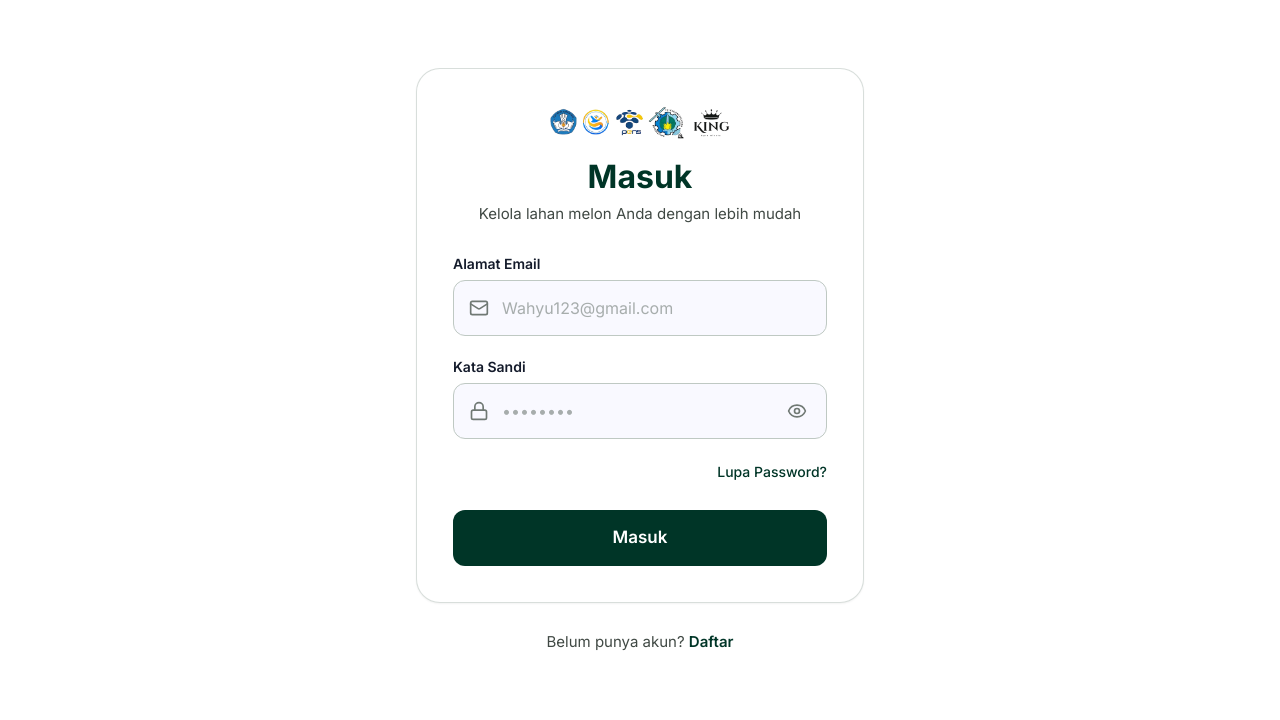
Test case: TASK-0218 Login View Single-Session Recovery UI Tests › 2. Clicking recovery button opens modal, requests challenge, and displays 6-digit OTP step with countdown
In the field labelled "Alamat Email": (640, 308) [453,280,827,336], type "user@example.com"
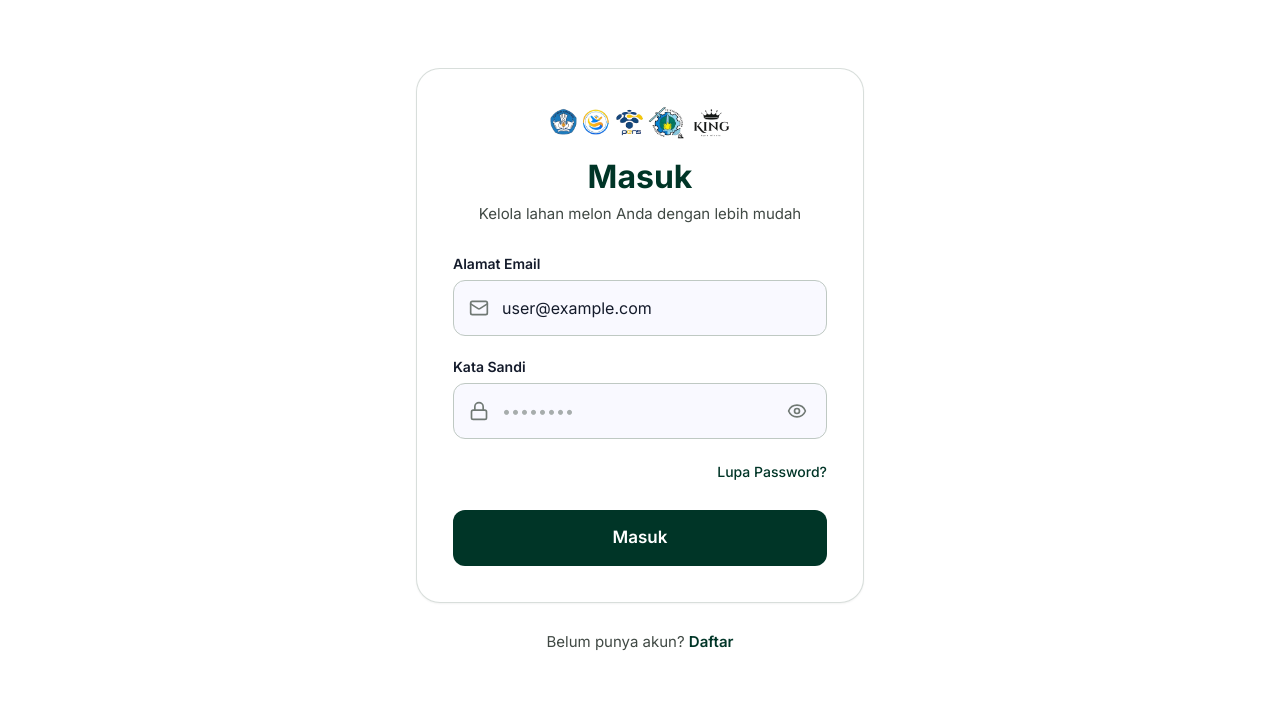
In the password field labelled "Kata Sandi": (640, 410) [453,382,827,438], type "ValidPassword123!"
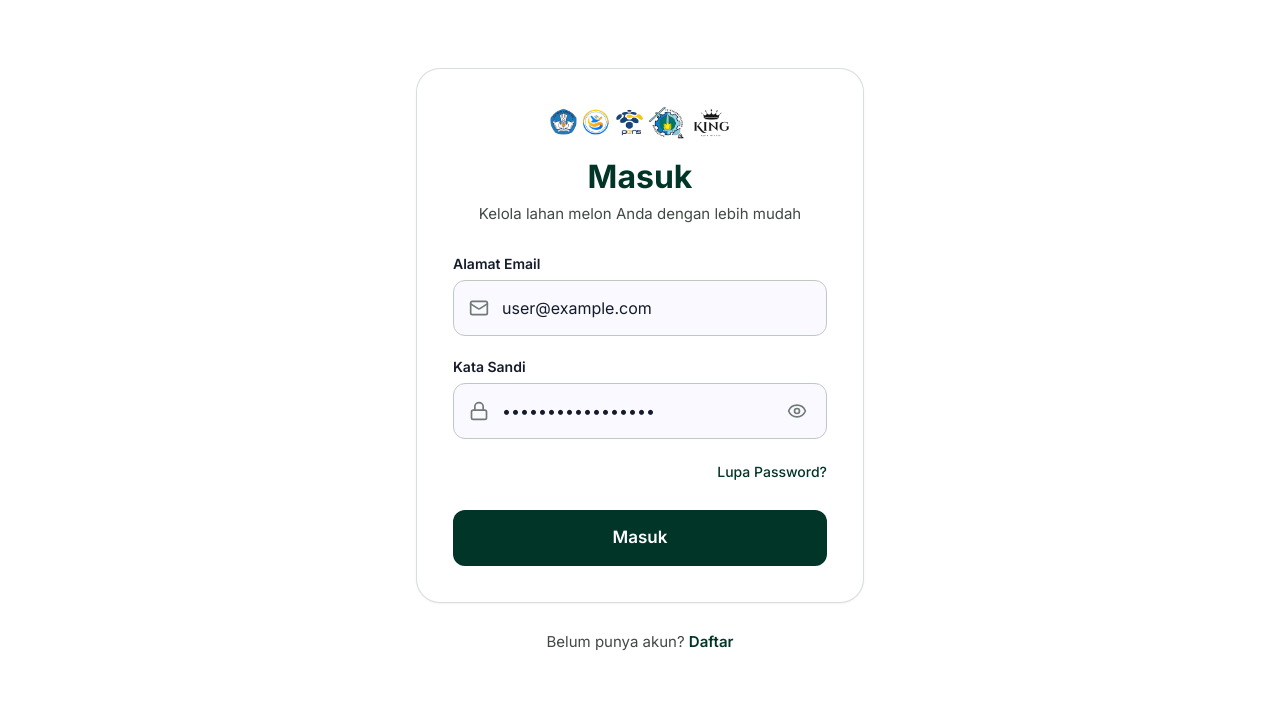
Click the button "Masuk": (640, 538) [453,510,827,566]
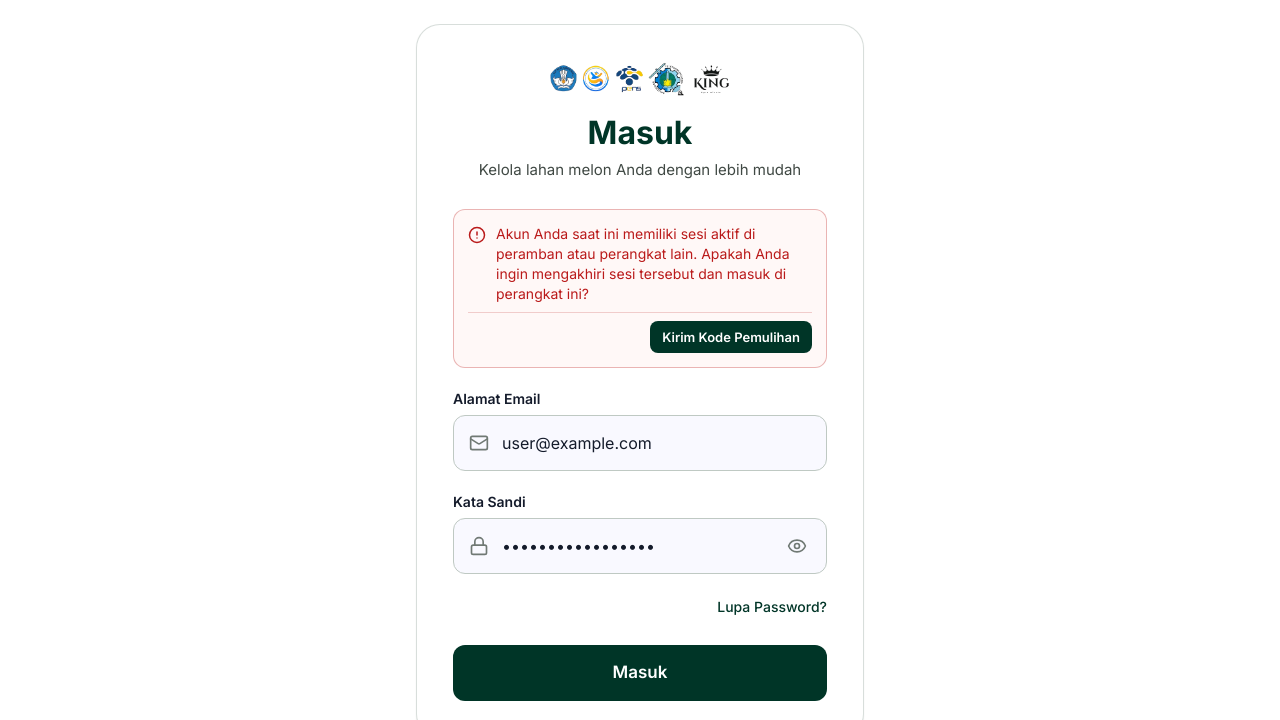
Check: the button "Kirim Kode Pemulihan" is shown
Click the button "Kirim Kode Pemulihan": (731, 337) [650,321,812,353]
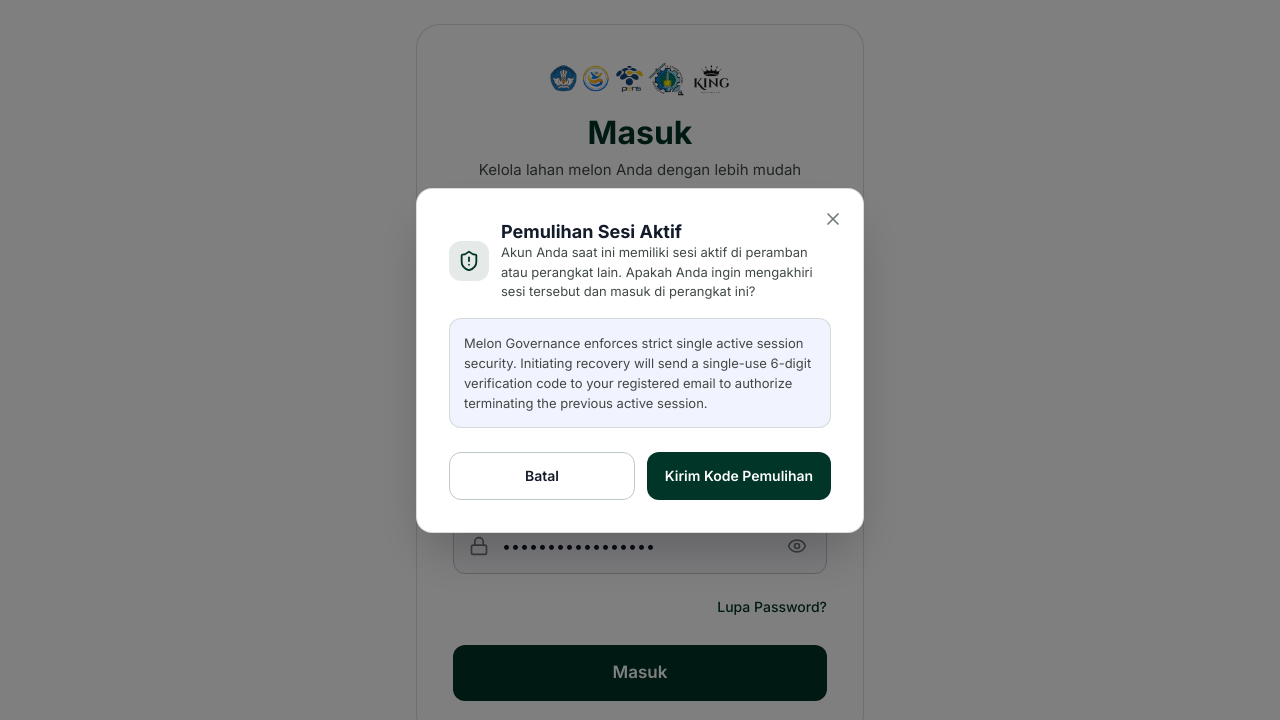
Check: the dialog is shown
Click the button "Kirim Kode Pemulihan": (739, 476) [647,452,831,500]
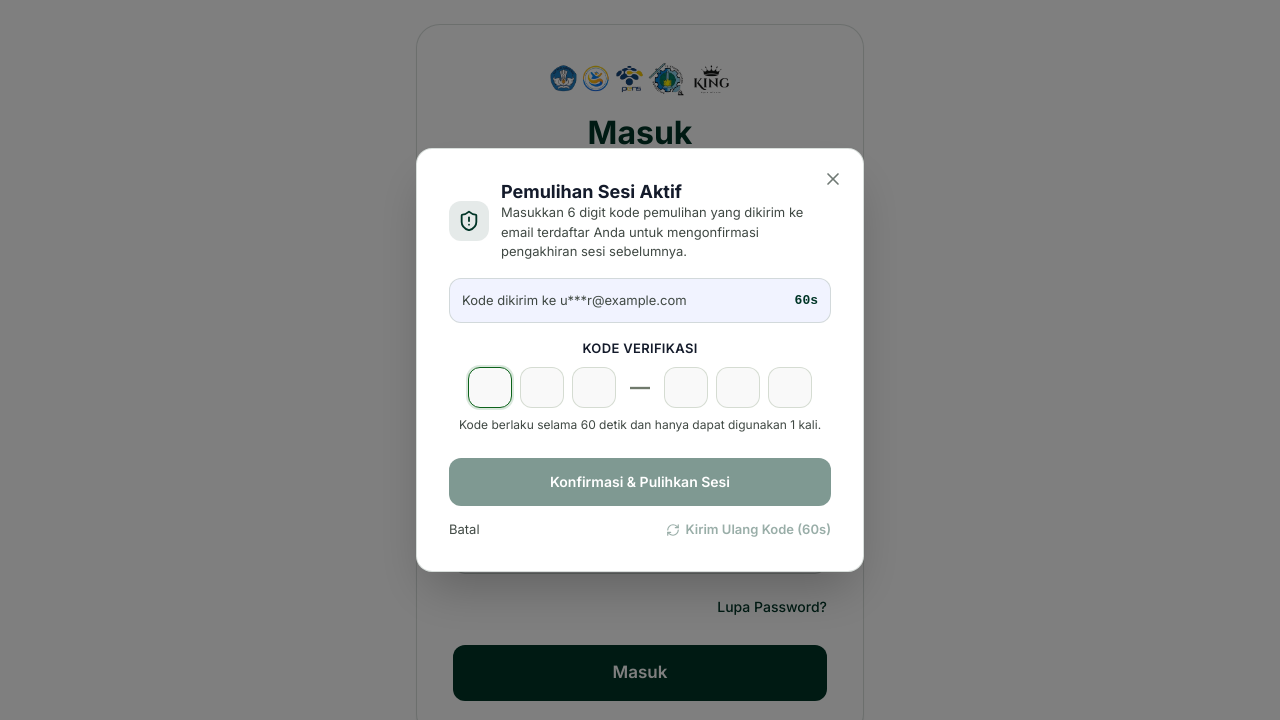
Check: the text "Kode dikirim ke u***r@example.com" is shown, box [462,291,687,310]
Check: the element with test id "otp-code-input" is shown, box [449,367,831,408]
Check: the button "Konfirmasi & Pulihkan Sesi" is shown, box [449,458,831,506]
